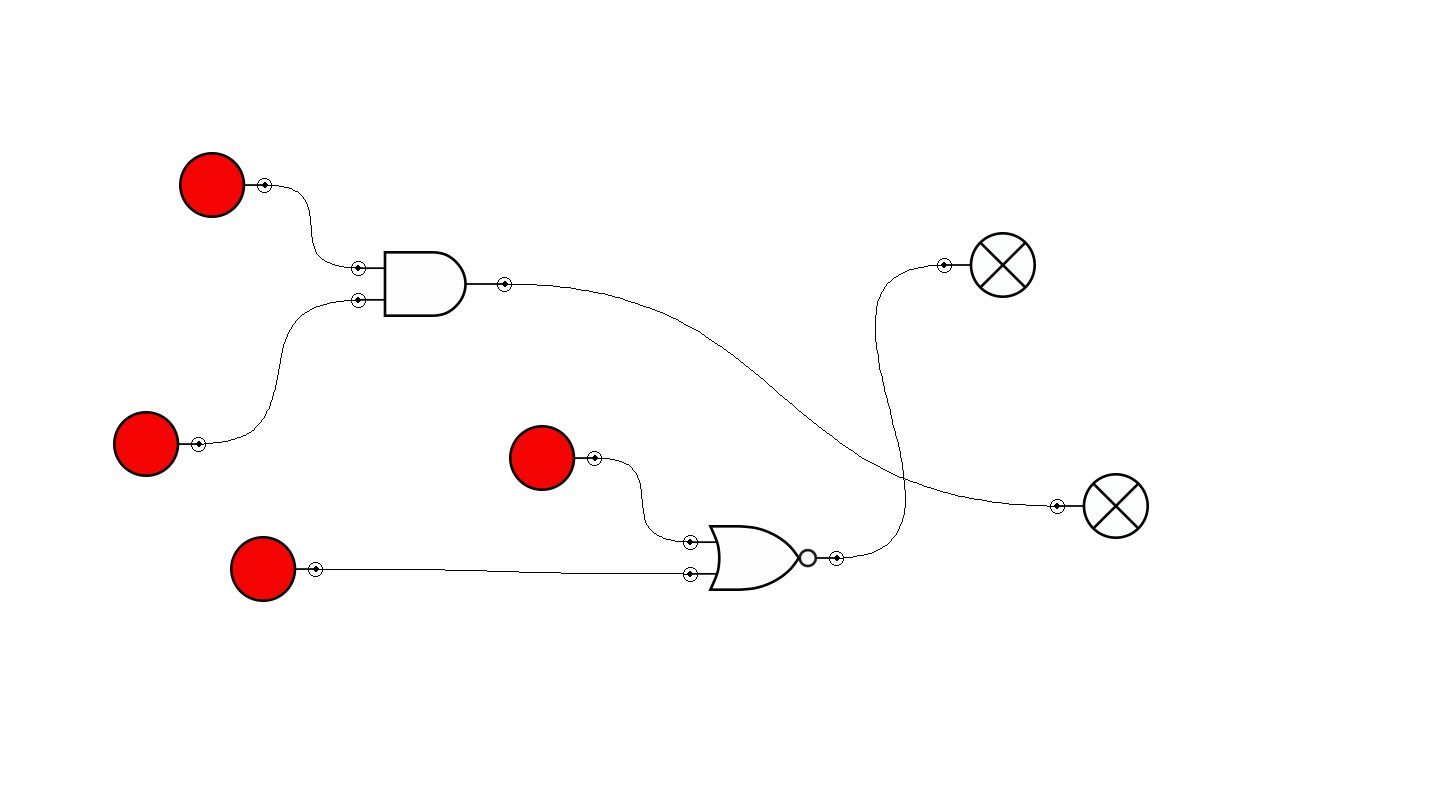and: (351, 251, 512, 317)
bulb: (1050, 473, 1149, 539), (937, 232, 1036, 298)
nor: (683, 525, 844, 591)
switch_False: (230, 536, 323, 602), (509, 425, 602, 491), (113, 411, 206, 477), (179, 152, 272, 218)
